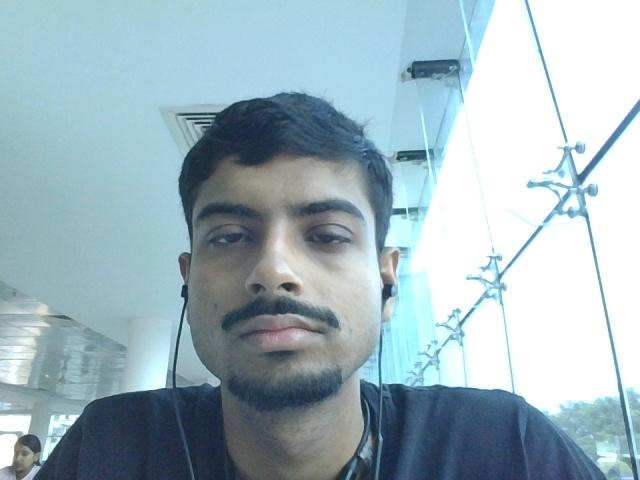nervous: (170, 98, 437, 422)
